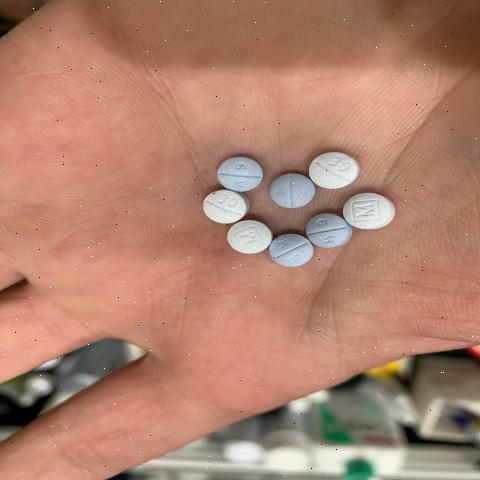Pill: (338, 191, 405, 240), (182, 188, 252, 229), (210, 218, 274, 262), (306, 147, 362, 190)
